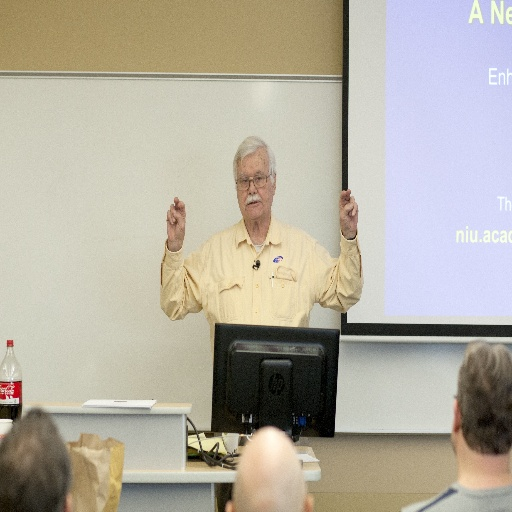hand: (337, 184, 367, 244), (163, 195, 186, 241)
